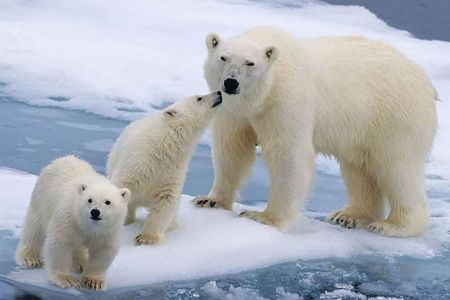bear: (204, 24, 440, 239), (114, 88, 223, 243), (18, 153, 131, 294)
